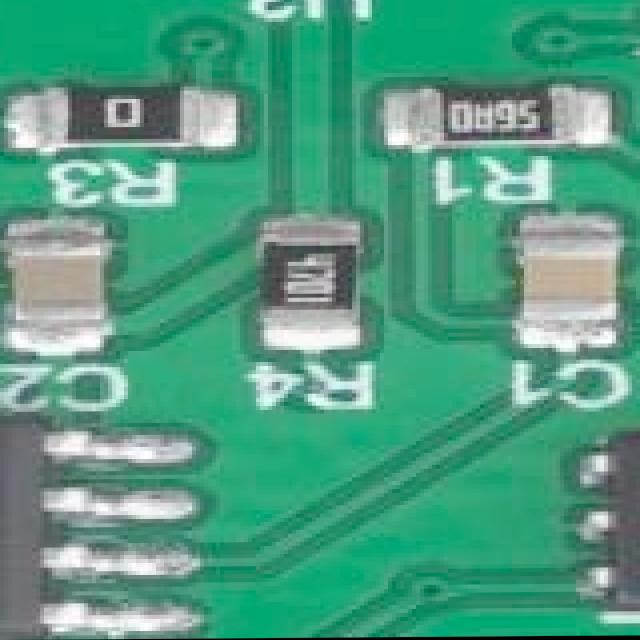IC: (0, 415, 136, 640), (584, 444, 640, 621)
capacitor: (514, 216, 620, 333), (0, 239, 108, 348)
resistor: (400, 89, 584, 146), (272, 226, 360, 334), (36, 95, 212, 148)
